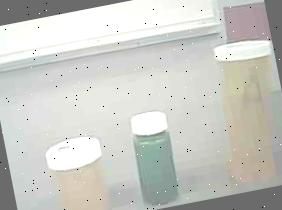Bottle A: (206, 30, 282, 193)
Bottle B: (35, 127, 124, 210)
Bottle C: (120, 104, 189, 210)
